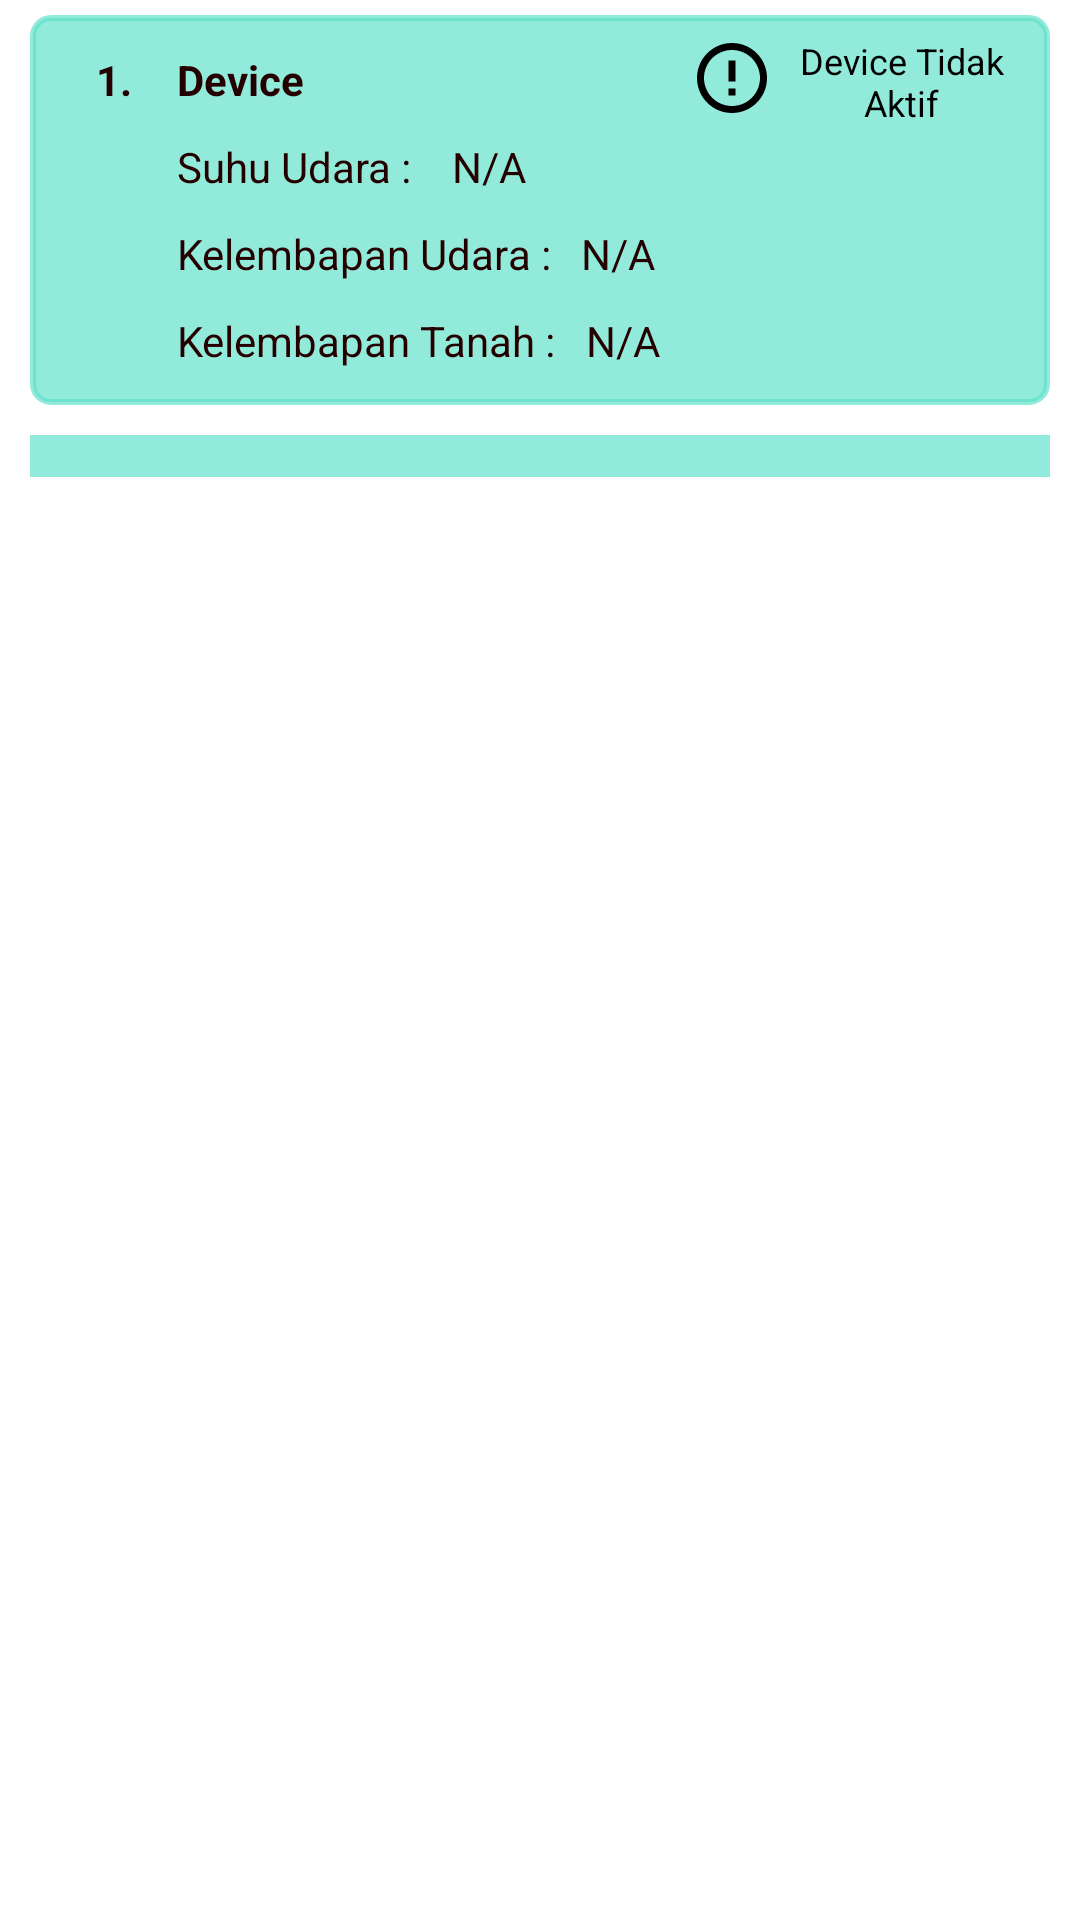

Screen size 1080x1920. Icon name, then its box in pixels as {"x1": x1, "y1": y1, "x2": x2, "y2": y2}:
error: {"x1": 697, "y1": 43, "x2": 767, "y2": 113}
